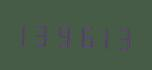nine: (56, 19, 74, 49)
one: (17, 17, 35, 48), (94, 20, 112, 51)
six: (75, 19, 93, 50)
three: (36, 18, 54, 49), (113, 21, 131, 51)
